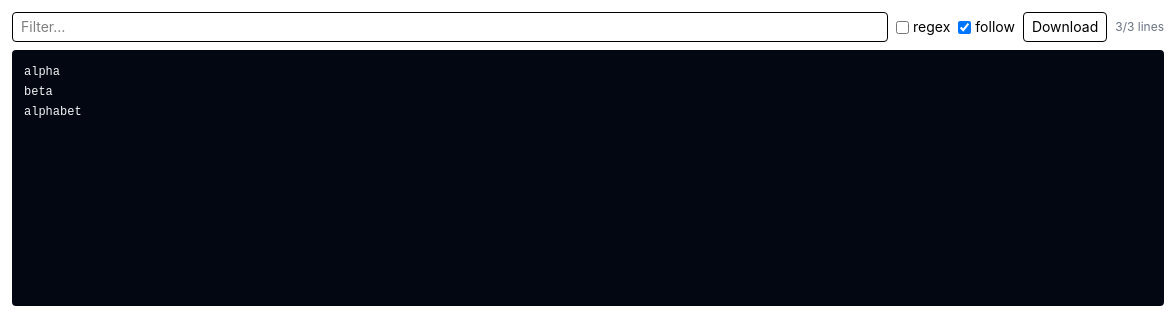
Test case: LogView › hides non-matching lines when filtering and reports counts
Check: the text "alpha" is shown 3 times, box [24, 65, 60, 79]; [24, 85, 53, 99]; [24, 105, 82, 119]
Type "alpha" into the field named "Filter logs".
click(450, 27); type("alpha")  # box [12, 12, 888, 42]
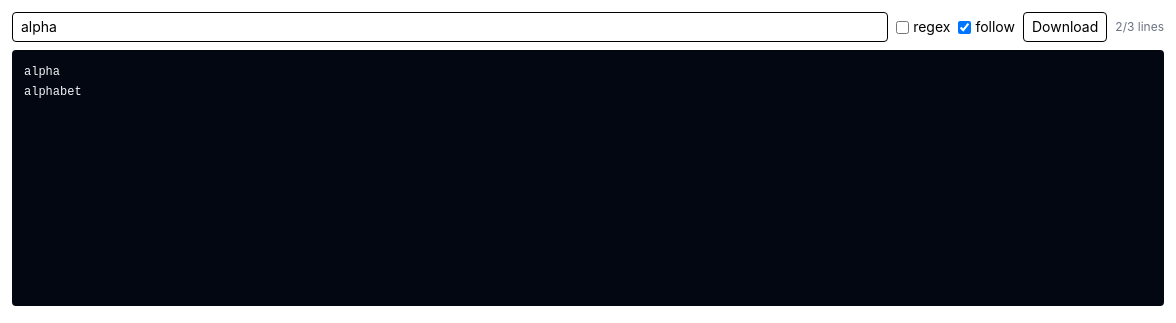
Check: the text "beta" is gone
Check: the text "2/3 lines" is shown, box [1115, 19, 1164, 35]
